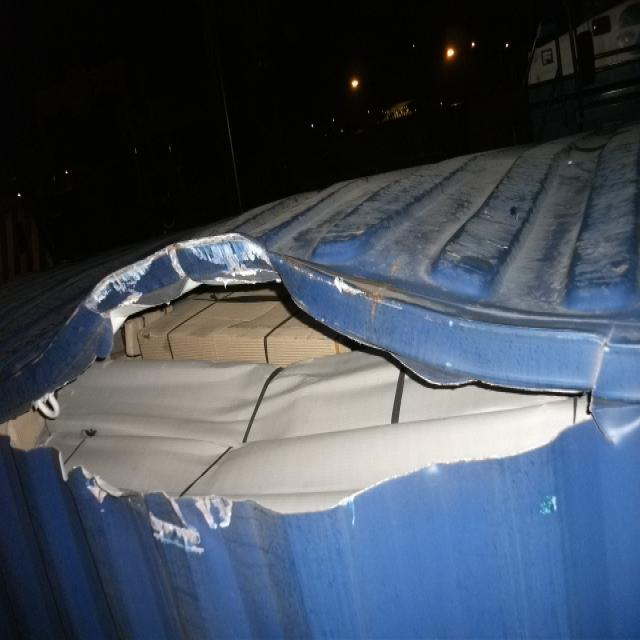hole: (1, 230, 601, 528)
